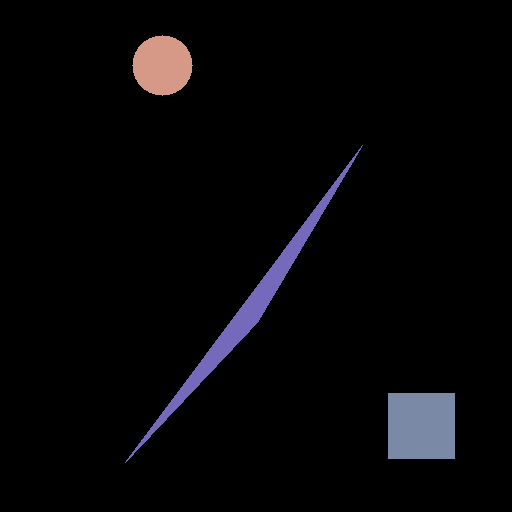circle: (132, 35, 192, 95)
square: (388, 393, 454, 458)
triangle: (125, 145, 362, 462)
